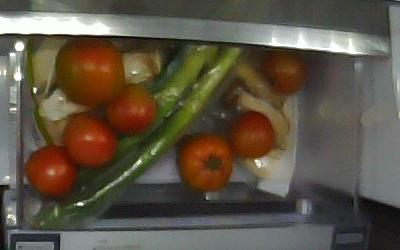tomato: (55, 37, 124, 107), (177, 134, 232, 191), (62, 115, 117, 167), (26, 144, 76, 197), (105, 85, 157, 135), (231, 110, 274, 159), (263, 50, 308, 95)
